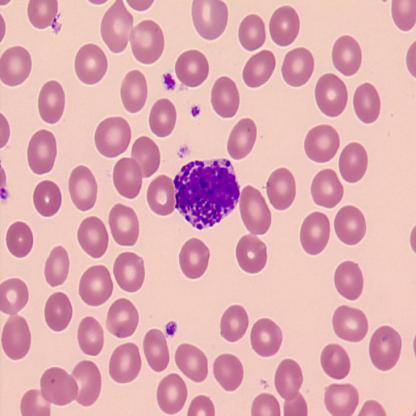Basophil: (170, 156, 241, 234)
